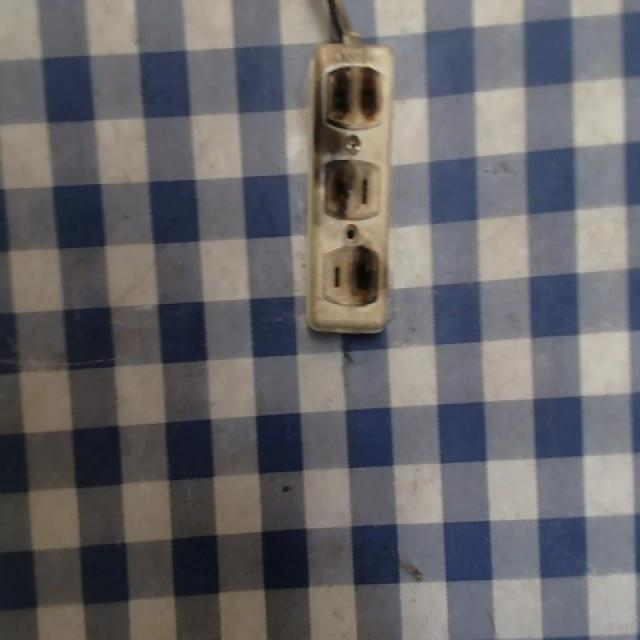-: (315, 61, 398, 132), (306, 152, 360, 227), (346, 233, 387, 320)
